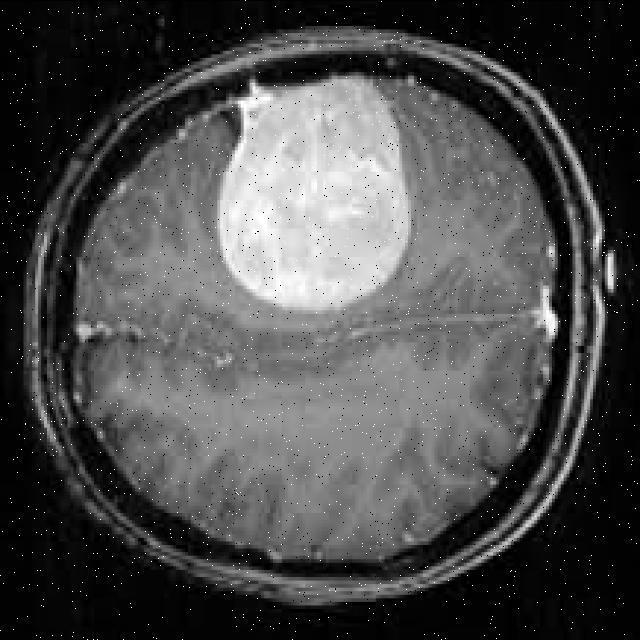Meningioma: (219, 78, 410, 309)
